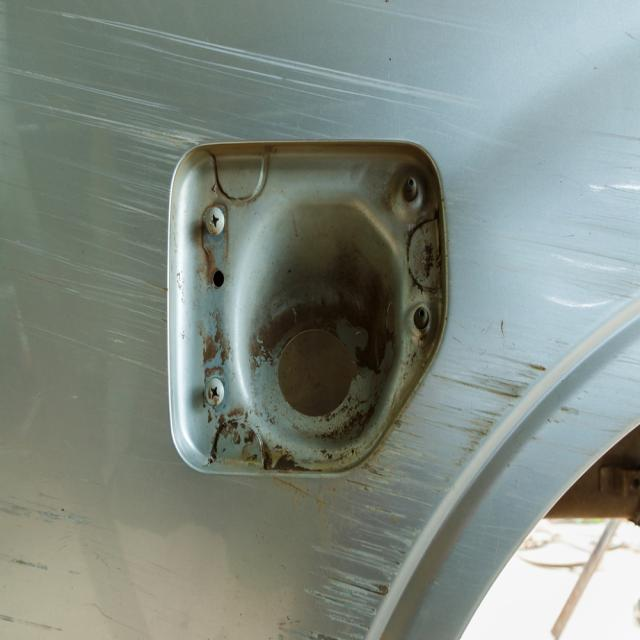scratch: (0, 0, 640, 640), (0, 485, 176, 640)
